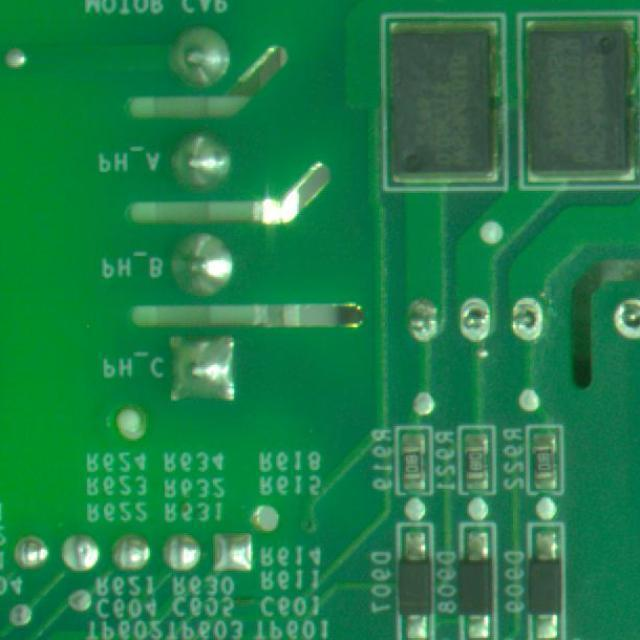Insufficient solder: (453, 290, 504, 348), (509, 282, 553, 348), (609, 263, 640, 347)
